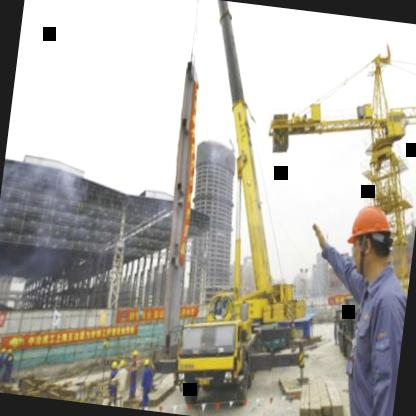helmet: (338, 196, 400, 282)
